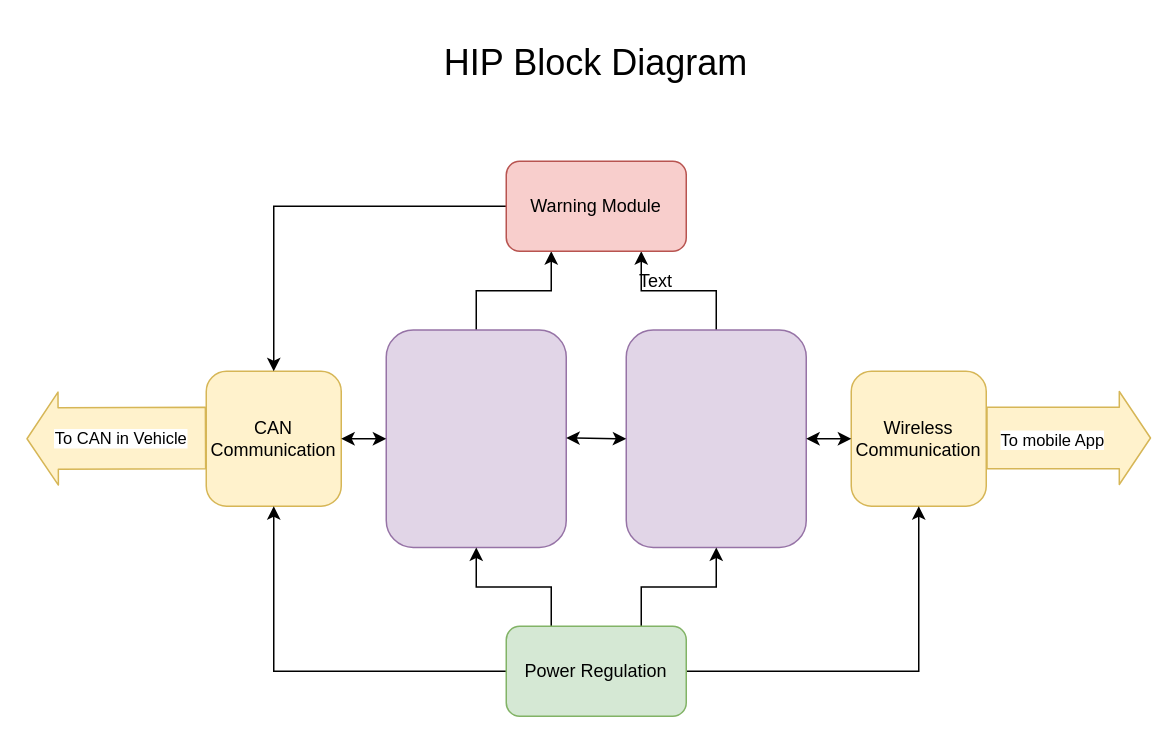
This 1176x743 diagram has some shape labels left out. Here are the shapes that lost their labels. From the top down, the centre of each, then its label:
the point at 475,438: Environmental Sensor
the point at 715,438: Image Processing
